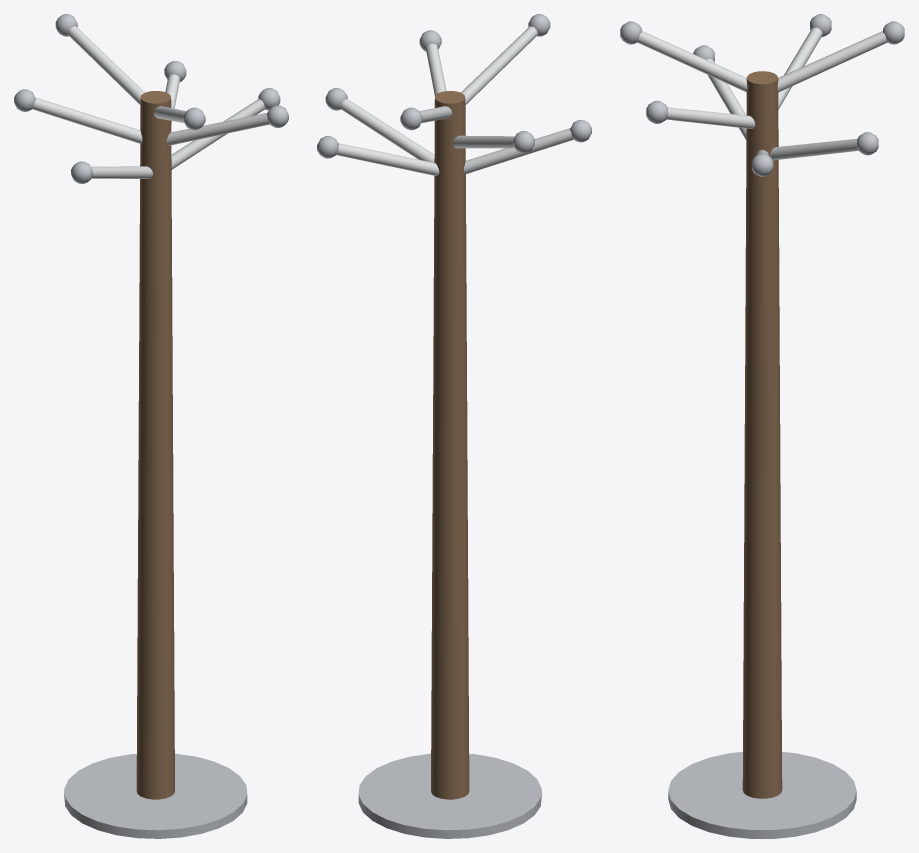
Rendered from coat_rack01.glb.
3 renders of one model, left to right at view 1: azimuth 30°, elevation 25°; view 2: azimuth 150°, elevation 25°; view 3: azimuth 270°, elevation 25°, orthographic. The views are drawn at different scales.
Visible parts, largest first — view 1: shaft, pedestal, hooks, tips; view 2: shaft, pedestal, hooks, tips; view 3: shaft, pedestal, hooks, tips.
Boxes of the visible parts, x1=… form: shaft: x1=136, y1=91, x2=174, y2=799; pedestal: x1=64, y1=753, x2=247, y2=838; hooks: x1=32, y1=26, x2=269, y2=178; tips: x1=14, y1=14, x2=288, y2=183; shaft: x1=431, y1=91, x2=469, y2=799; pedestal: x1=358, y1=753, x2=541, y2=838; hooks: x1=336, y1=26, x2=573, y2=176; tips: x1=317, y1=14, x2=591, y2=158; shaft: x1=742, y1=71, x2=782, y2=798; pedestal: x1=668, y1=752, x2=856, y2=838; hooks: x1=637, y1=27, x2=887, y2=160; tips: x1=620, y1=14, x2=904, y2=176.
Bounding box in the file's own units: 0.621 × 1.88 × 0.6332.
